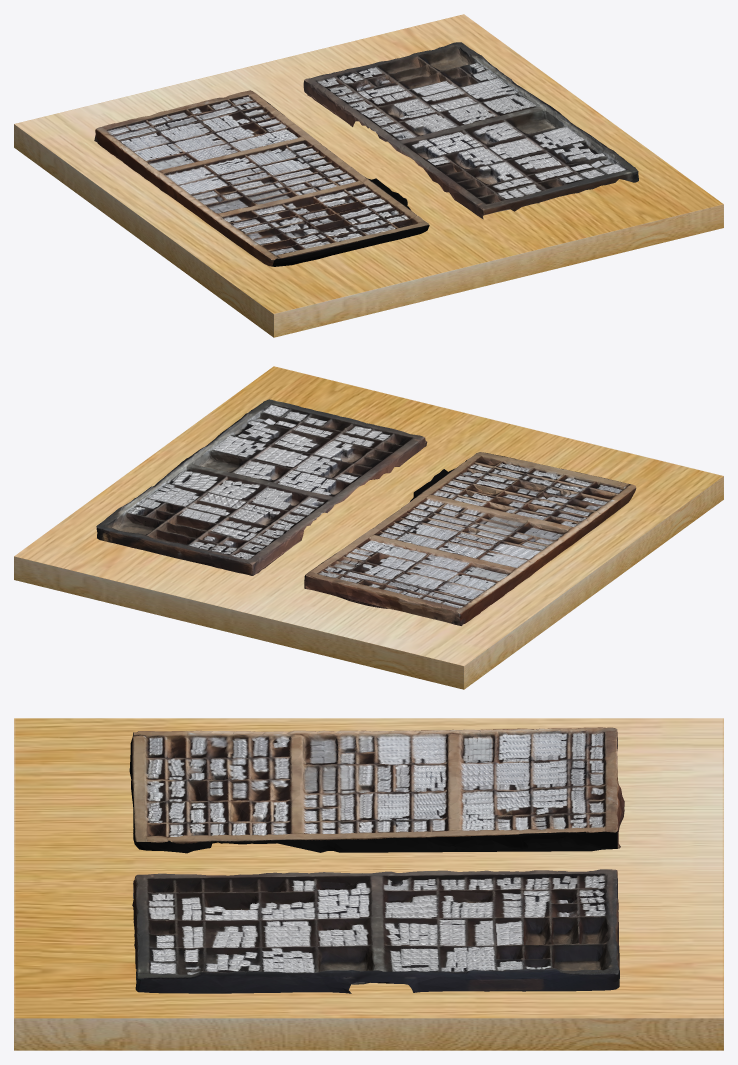
File: type.glb
3 views of the same model, one above another, from view 1: azimuth 30°, elevation 25°; view 2: azimuth 150°, elevation 25°; view 3: azimuth 270°, elevation 25° (orthographic). The views are drawn at different scales.
Parts seen in each view (by area): view 1: Mesh_0, type.001, type2; view 2: Mesh_0, type.001, type2; view 3: Mesh_0, type.001, type2.
Part boxes in pixels (bbox=[...]): Mesh_0: bbox=[14, 14, 723, 337]; type.001: bbox=[94, 90, 429, 266]; type2: bbox=[303, 42, 638, 219]; Mesh_0: bbox=[14, 366, 723, 689]; type.001: bbox=[304, 452, 636, 625]; type2: bbox=[96, 399, 427, 575]; Mesh_0: bbox=[14, 718, 723, 1050]; type.001: bbox=[129, 727, 624, 853]; type2: bbox=[132, 869, 619, 993].
Size of the model in its own units: 2 by 0.1643 by 2.
Materials: 3 (3 with a texture image).
